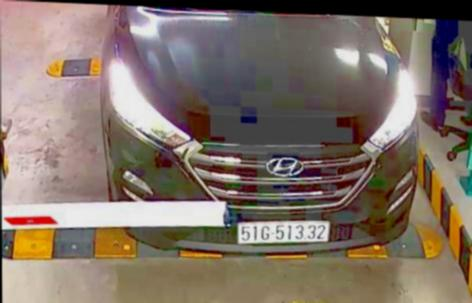License_Plate: (234, 213, 335, 252)
